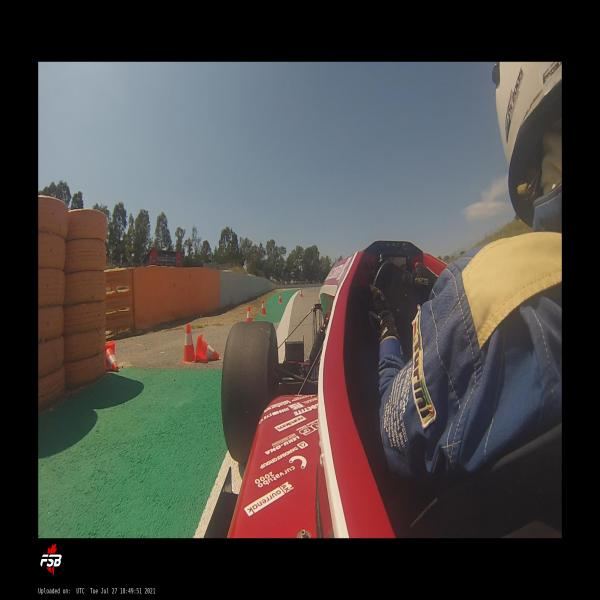orange_cone: (194, 334, 219, 362), (180, 324, 194, 363), (102, 343, 118, 371), (246, 306, 253, 323), (260, 300, 267, 315), (278, 294, 282, 304), (300, 290, 303, 298)
